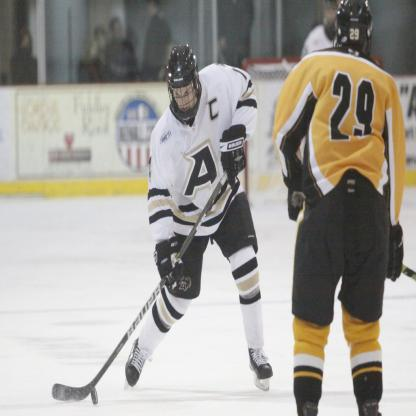Helmet: (333, 0, 381, 58), (166, 47, 200, 117)
